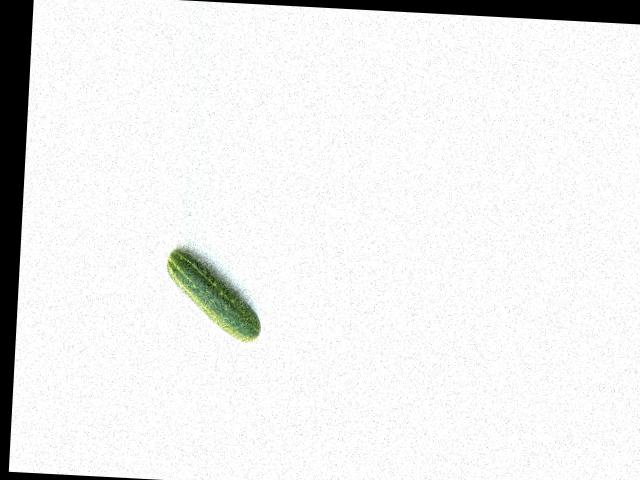cucumber: (161, 248, 263, 343)
